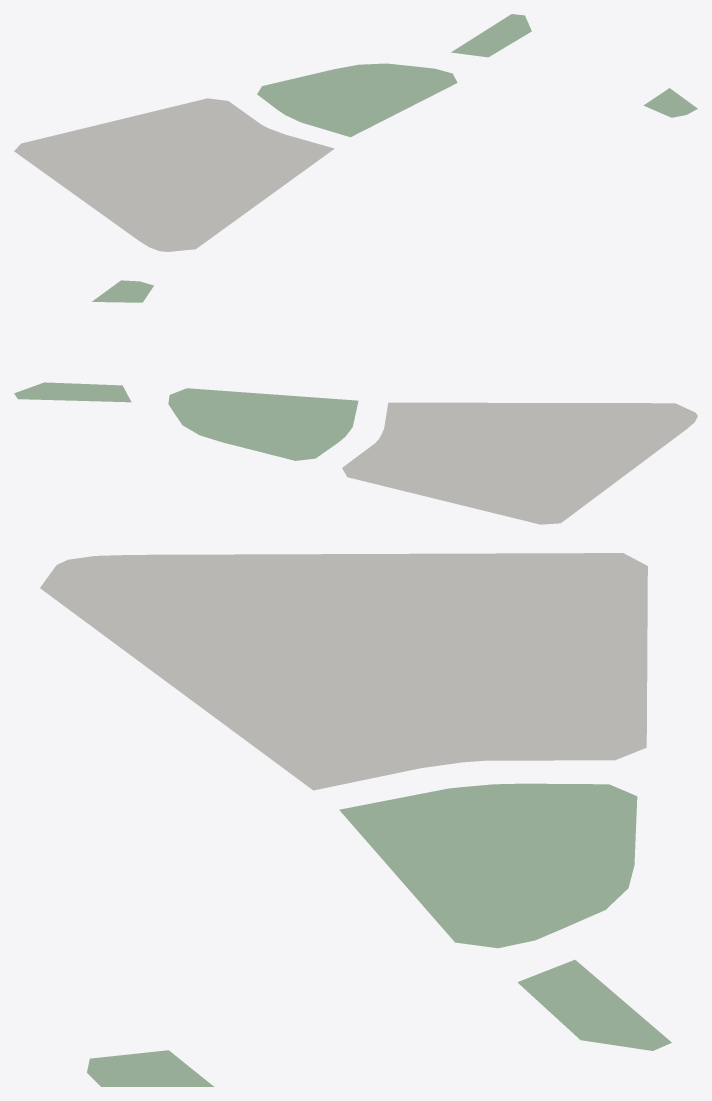
Rendered from 125_67_mid.glb.
The picture shows the model from 3 angles, top to bottom: view 1: azimuth 30°, elevation 25°; view 2: azimuth 150°, elevation 25°; view 3: azimuth 270°, elevation 25°; orthographic projection. The views are drawn at different scales.
Size of the model in its own units: 495 by 3.37 by 245.
